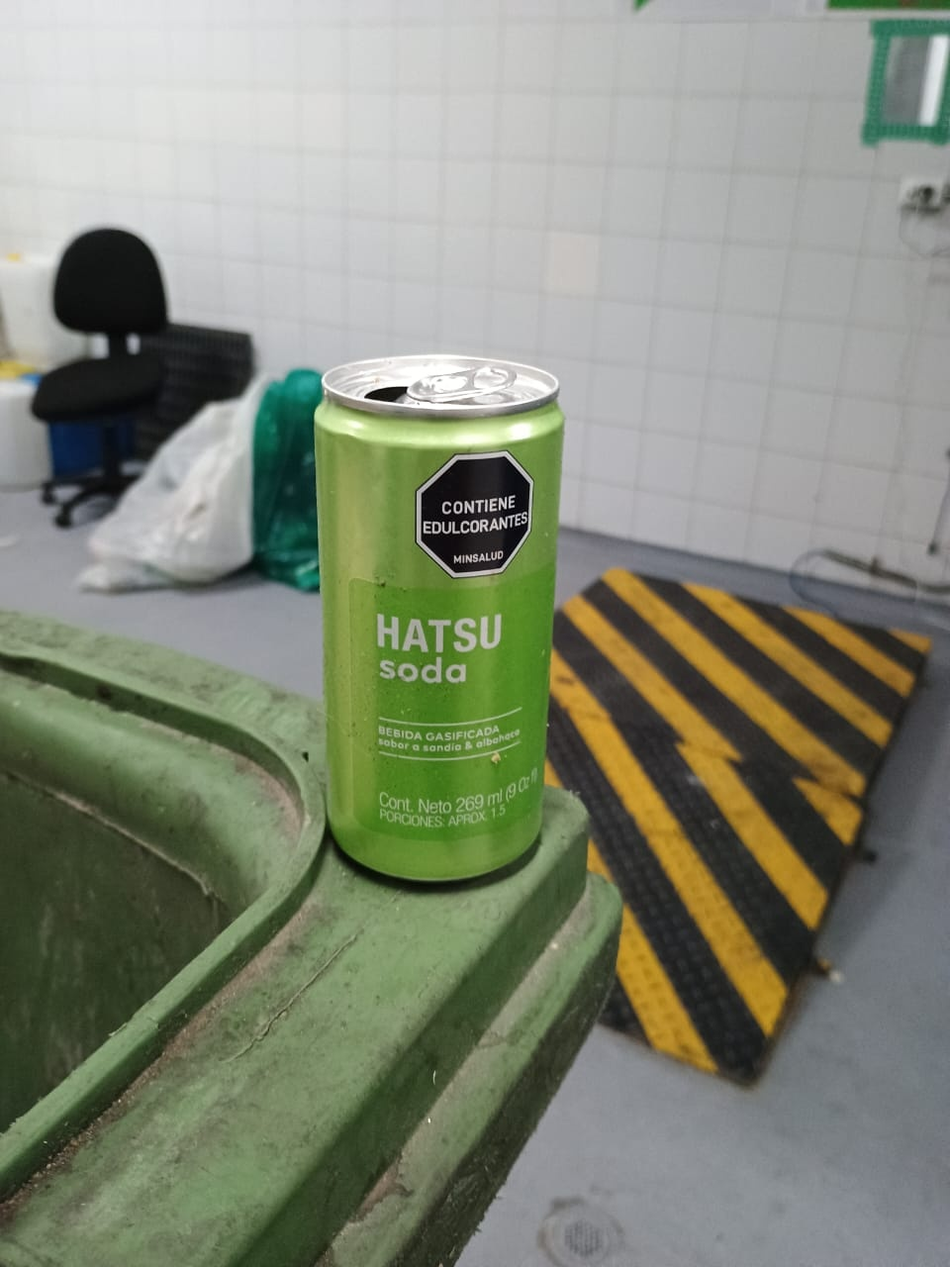Metal: (314, 350, 560, 889)
